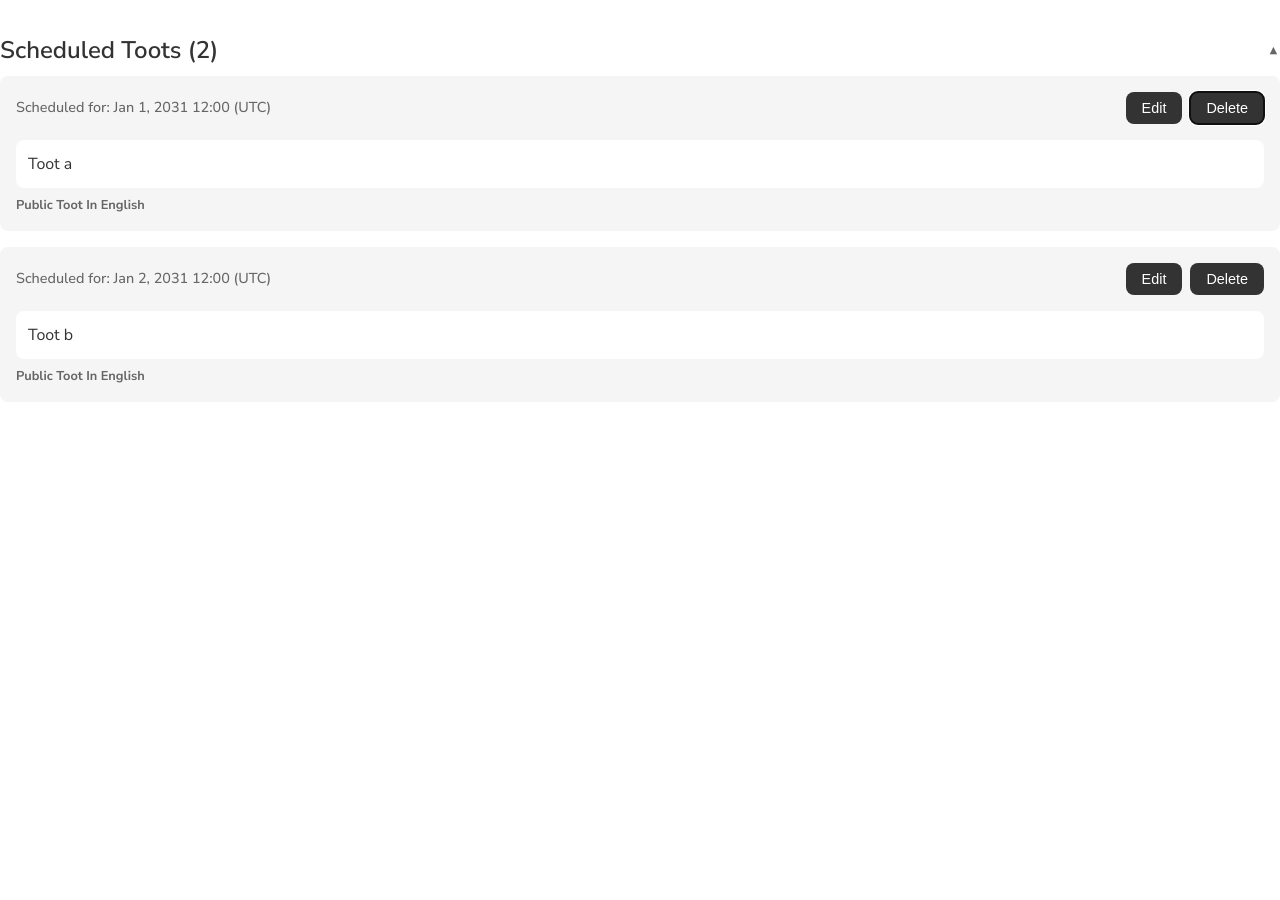
Test: ScheduledToots › with two toots › deletes after confirmation and moves focus to the list toggle once the card is gone
Click the button with class "delete-button" in the row of "Scheduled for: Jan 1, 2031 12:00 (UTC)": coordinates (1227, 108) [1190, 92, 1264, 124]
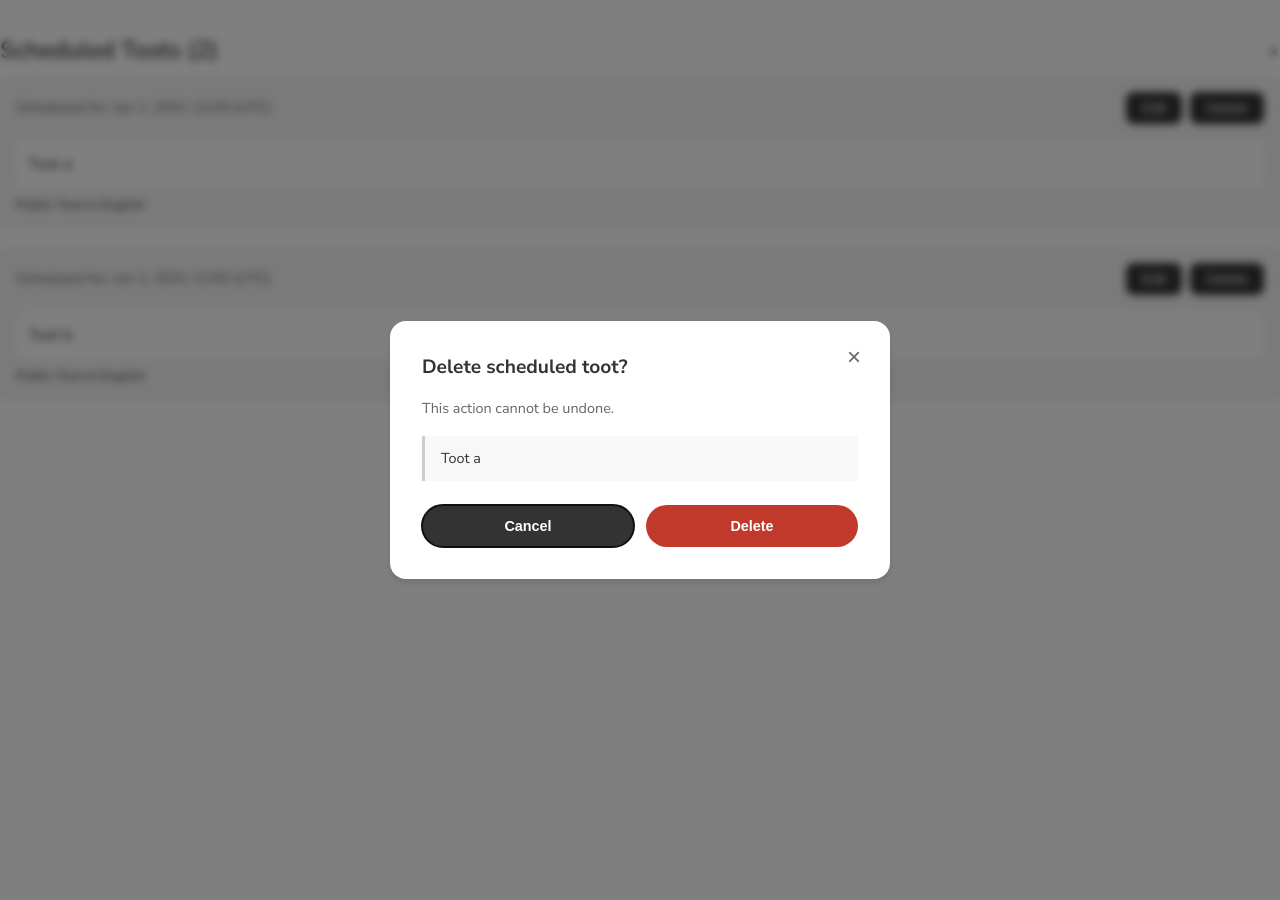
Result: the dialog is shown at [390, 321, 890, 579]
Click the button with class "btn-delete": coordinates (752, 526) [646, 505, 858, 547]
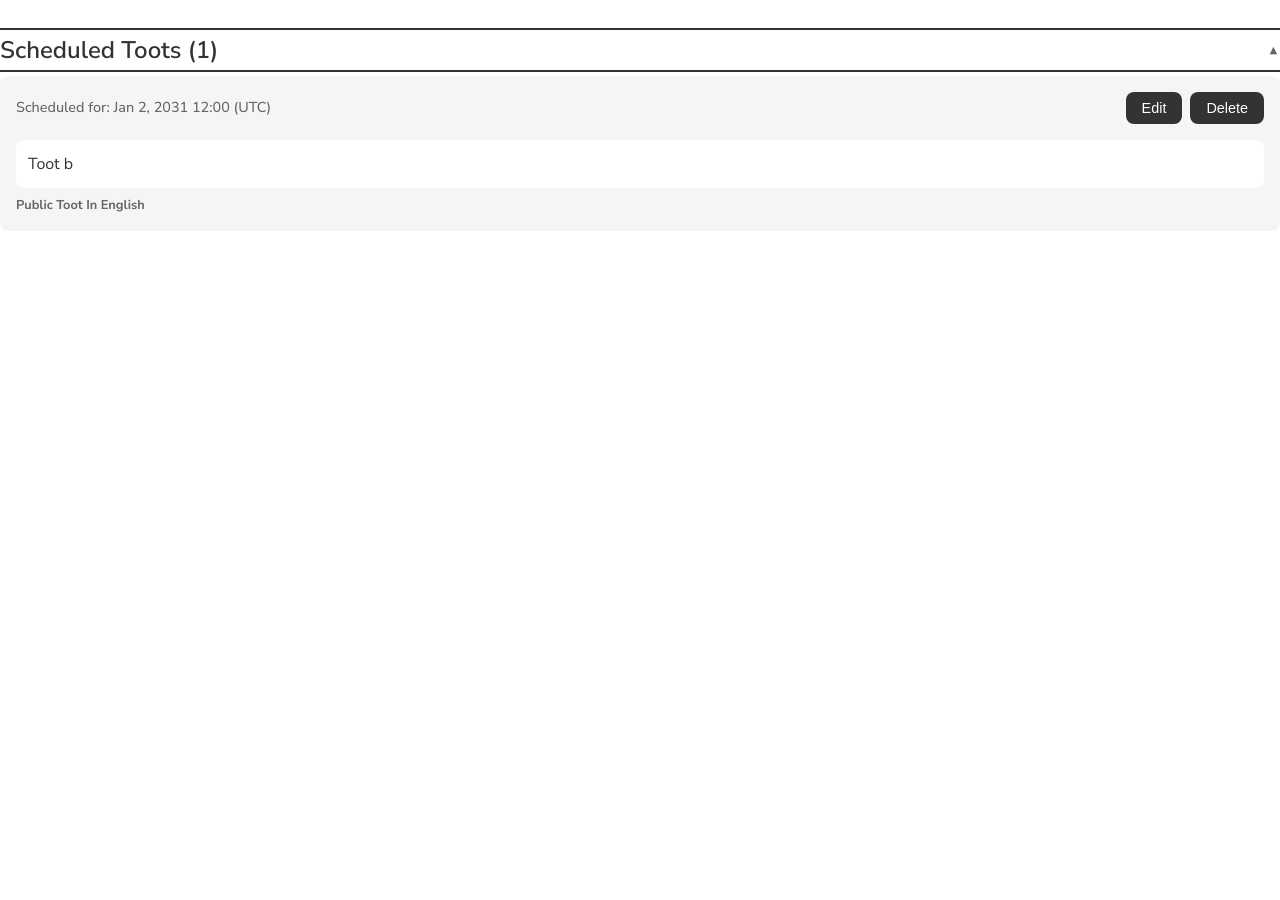
Result: the number of elements with class "toot-card" is 1 at [0, 76, 1279, 231]
